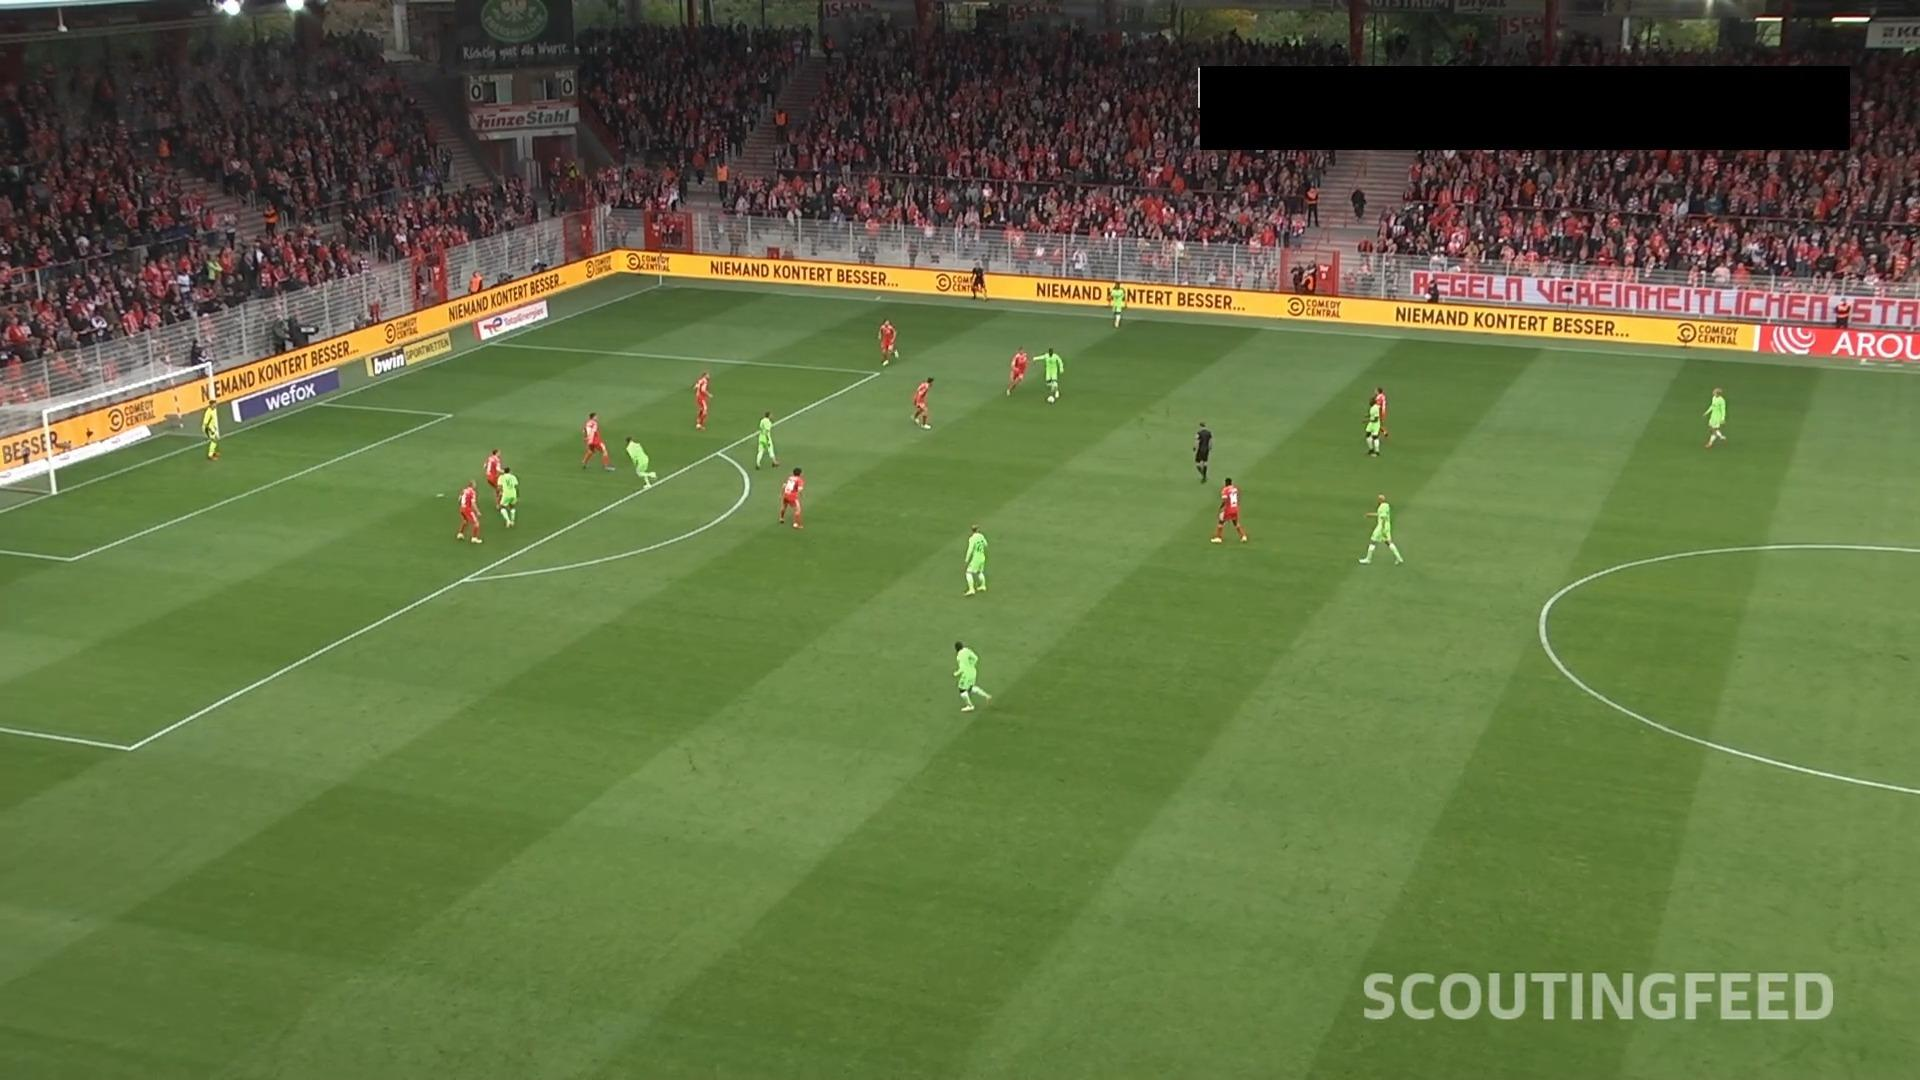ball: (1044, 393, 1058, 405)
